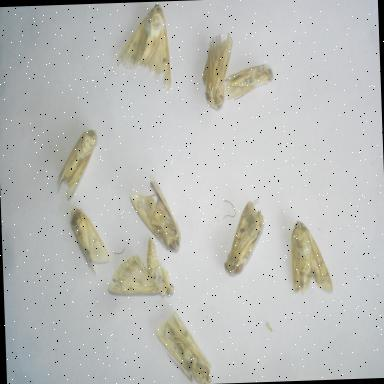abw: (112, 2, 176, 96), (125, 168, 183, 260), (152, 304, 216, 384), (104, 234, 178, 302), (219, 192, 273, 282), (284, 213, 335, 298), (52, 121, 102, 204), (64, 204, 112, 283), (194, 28, 237, 114), (220, 60, 278, 104)
